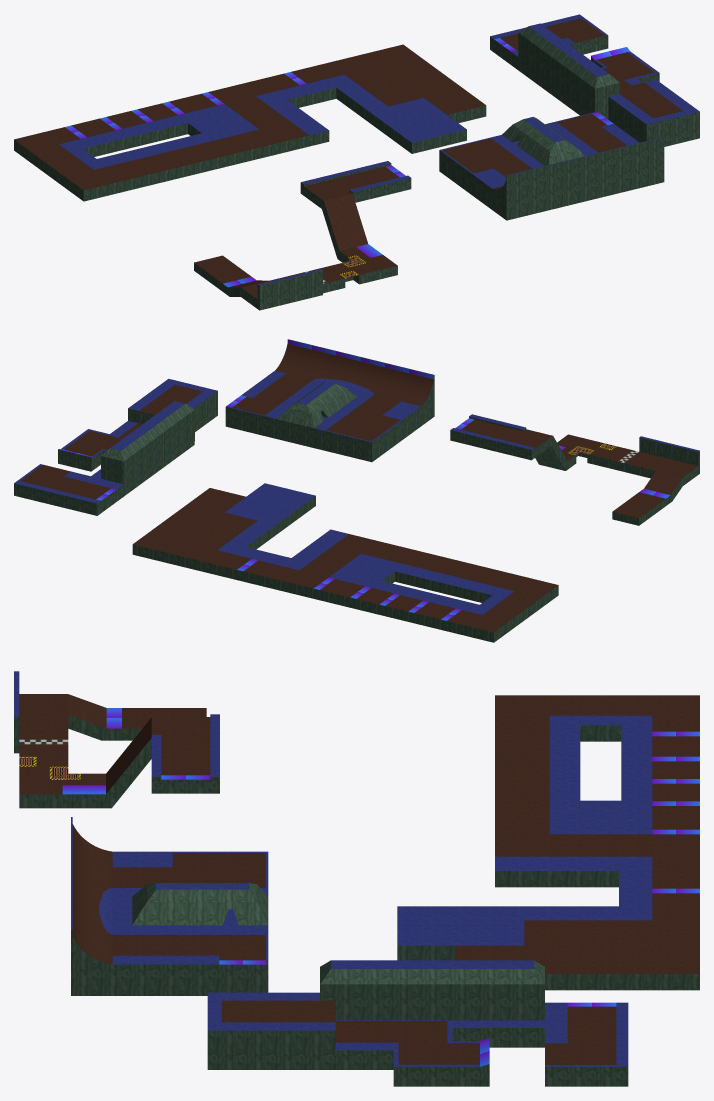
3 renders of one model, top to bottom at view 1: azimuth 30°, elevation 25°; view 2: azimuth 150°, elevation 25°; view 3: azimuth 270°, elevation 25°, orthographic. The views are drawn at different scales.
Parts seen in each view (by area): view 1: SpacewayRace_SKP__mat2, SpacewayRace_SKP__mat3, SpacewayRace_SKP__mat1, SpacewayRace_SKP__mat7; view 2: SpacewayRace_SKP__mat3, SpacewayRace_SKP__mat2, SpacewayRace_SKP__mat1, SpacewayRace_SKP__mat7; view 3: SpacewayRace_SKP__mat3, SpacewayRace_SKP__mat2, SpacewayRace_SKP__mat1, SpacewayRace_SKP__mat7.
Part boxes in pixels (bbox=[...]): SpacewayRace_SKP__mat2: bbox=[14, 26, 699, 310]; SpacewayRace_SKP__mat3: bbox=[14, 18, 682, 299]; SpacewayRace_SKP__mat1: bbox=[59, 14, 699, 285]; SpacewayRace_SKP__mat7: bbox=[65, 38, 630, 287]; SpacewayRace_SKP__mat3: bbox=[21, 343, 697, 632]; SpacewayRace_SKP__mat2: bbox=[14, 375, 699, 642]; SpacewayRace_SKP__mat1: bbox=[14, 339, 699, 614]; SpacewayRace_SKP__mat7: bbox=[58, 339, 670, 620]; SpacewayRace_SKP__mat3: bbox=[19, 694, 699, 1064]; SpacewayRace_SKP__mat2: bbox=[14, 715, 699, 1086]; SpacewayRace_SKP__mat1: bbox=[14, 671, 652, 1066]; SpacewayRace_SKP__mat7: bbox=[62, 708, 699, 1066].
Bounding box in the file's own units: 78741 × 8865 × 58892.
Materials: 7 (7 with a texture image).
